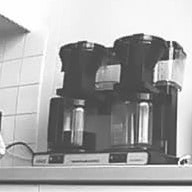empty coffee: (107, 89, 165, 154)
not empty coffee: (44, 93, 104, 155)
